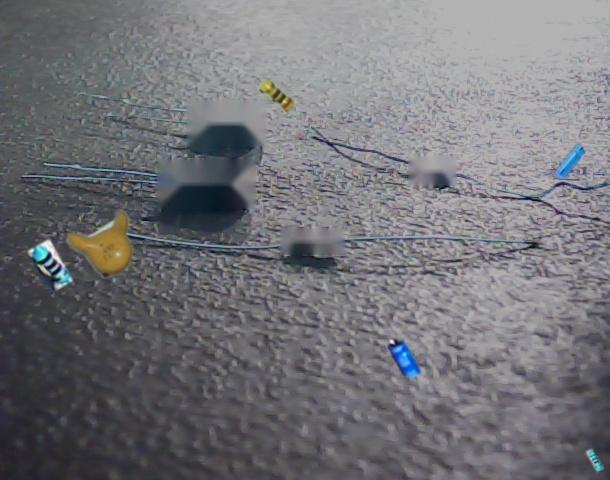capacitor: (67, 210, 134, 278), (387, 339, 422, 378), (551, 144, 585, 179)
resistor: (28, 239, 73, 293), (259, 79, 294, 112), (586, 449, 603, 472)
